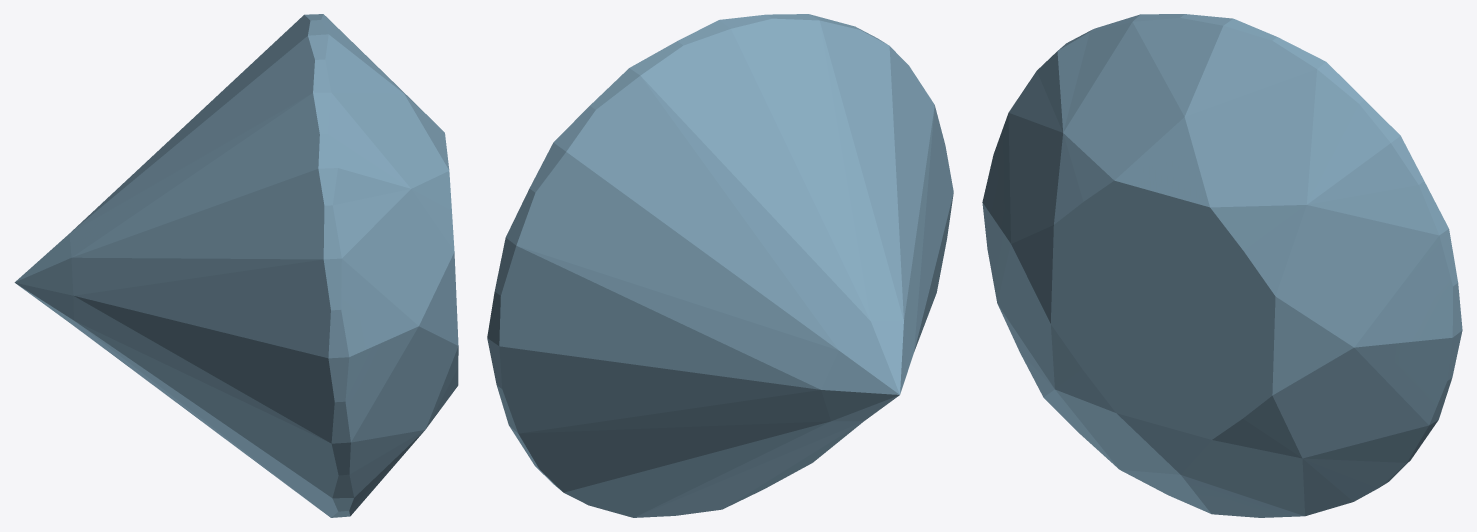
The model's file is BR4_8shapes_Round_Classic_Stone.001 2.glb.
3 views of the same model, side by side, from view 1: azimuth 30°, elevation 25°; view 2: azimuth 150°, elevation 25°; view 3: azimuth 270°, elevation 25° (orthographic). The views are drawn at different scales.
Parts seen in each view (by area): view 1: BR4_8shapes_Round_Classic_Stone.001; view 2: BR4_8shapes_Round_Classic_Stone.001; view 3: BR4_8shapes_Round_Classic_Stone.001.
Part boxes in pixels (x1=…): BR4_8shapes_Round_Classic_Stone.001: x1=14, y1=14, x2=458, y2=517; BR4_8shapes_Round_Classic_Stone.001: x1=487, y1=14, x2=953, y2=517; BR4_8shapes_Round_Classic_Stone.001: x1=982, y1=14, x2=1462, y2=517.
Size of the model in its own units: 0.4523 by 0.5171 by 0.4669.
